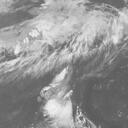cyclone: (42, 54, 76, 104)
